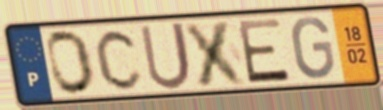C: (93, 27, 146, 92)
E: (235, 16, 293, 86)
G: (289, 15, 337, 81)
O: (45, 28, 98, 98)
U: (137, 19, 194, 93)
X: (181, 18, 252, 89)
